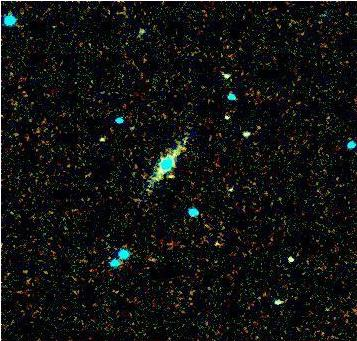star: (157, 165, 187, 195)
